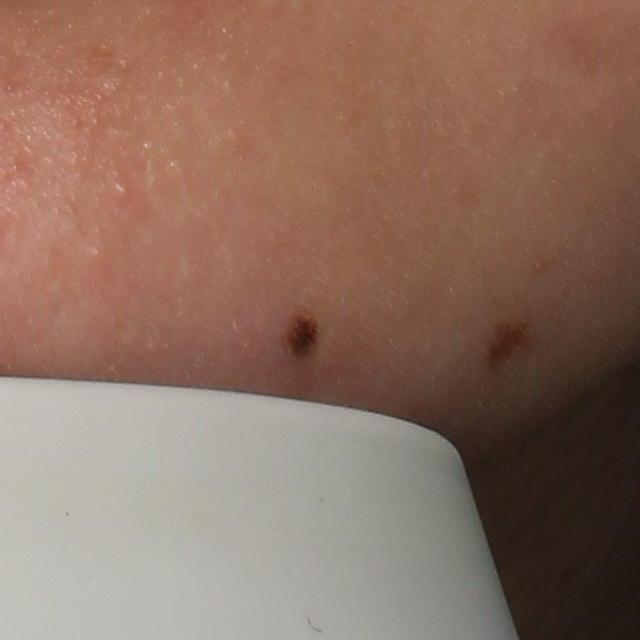comedo: (113, 183, 132, 203)
nevus: (484, 313, 535, 383), (286, 310, 321, 361)
